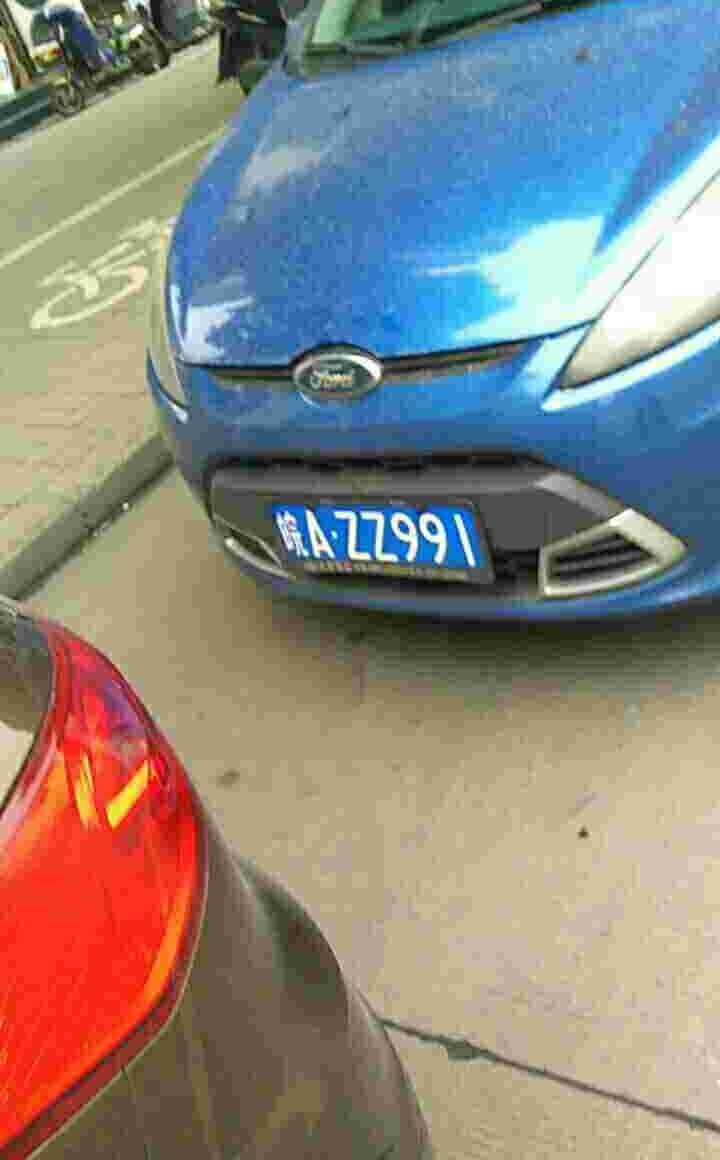license_plate: (282, 500, 490, 570)
